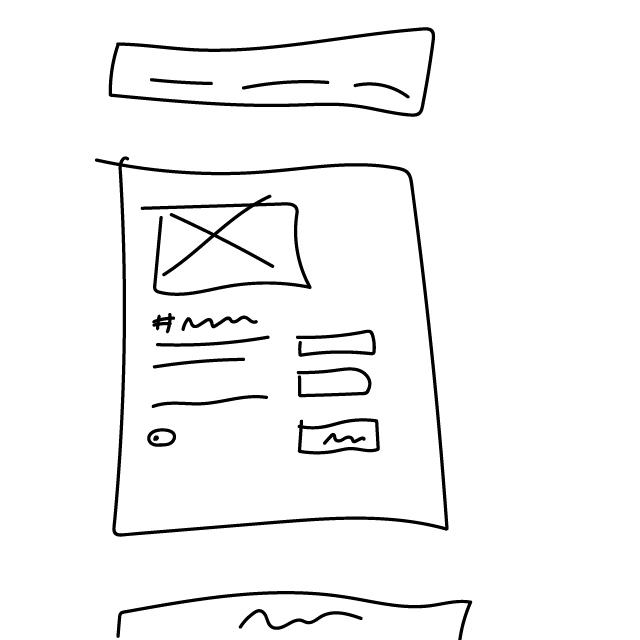button: (298, 415, 384, 460)
checkbox: (146, 428, 181, 451)
container: (87, 145, 475, 556)
footer: (102, 588, 478, 640)
frame: (139, 193, 318, 298)
heading: (146, 308, 262, 337)
input: (293, 325, 382, 361), (293, 367, 379, 401)
nav: (102, 23, 443, 127)
text: (153, 339, 280, 422)
